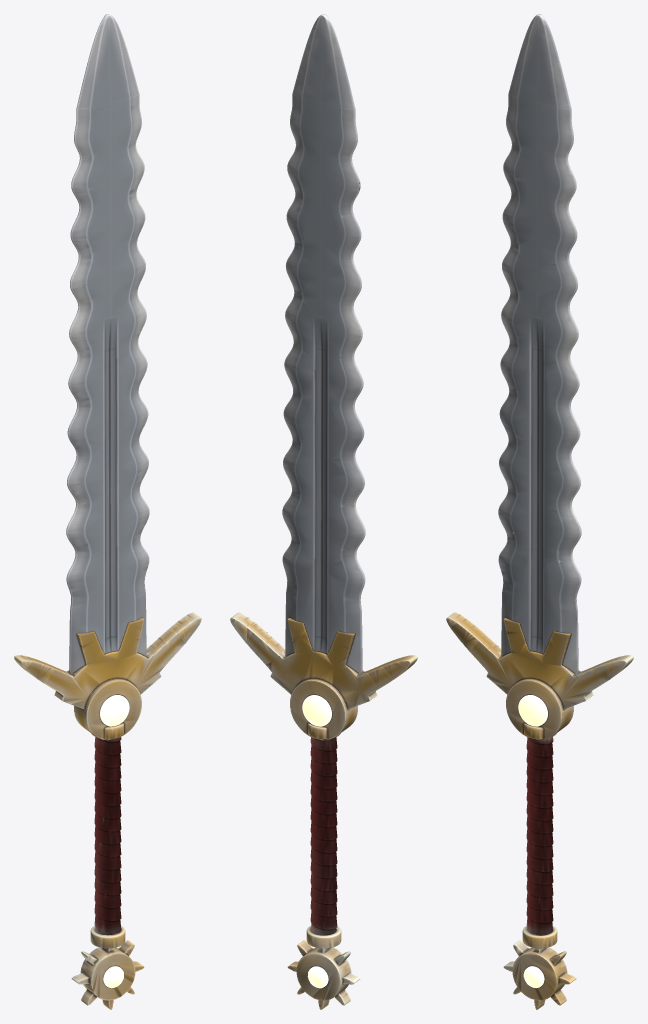
The model's file is weapon_sunbrand.gltf.
3 renders of one model, left to right at view 1: azimuth 30°, elevation 25°; view 2: azimuth 150°, elevation 25°; view 3: azimuth 330°, elevation 25°, orthographic.
Visible parts, largest first — view 1: weapon_sunbrand; view 2: weapon_sunbrand; view 3: weapon_sunbrand.
Boxes of the visible parts, x1,y1,x2,y2 form: weapon_sunbrand: [14, 14, 201, 1009]; weapon_sunbrand: [230, 14, 417, 1009]; weapon_sunbrand: [446, 14, 633, 1009].
Size of the model in its own units: 0.3246 by 1.71 by 0.0541.
Materials: 1 (1 with a texture image).
